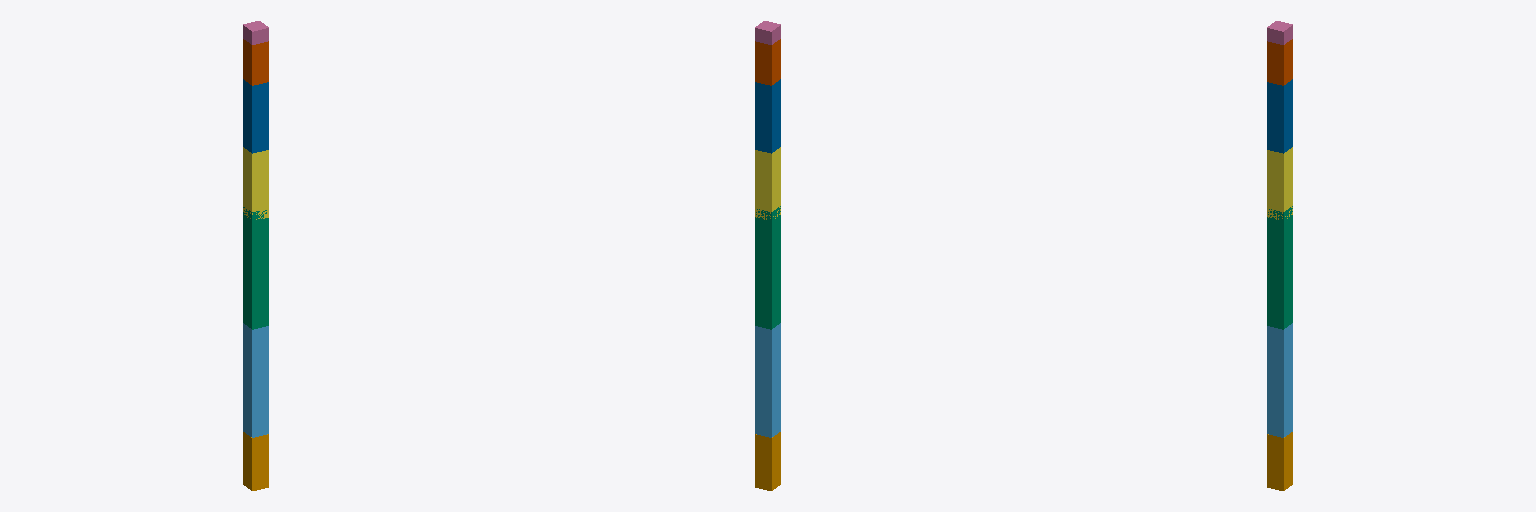
URDF robot description (6dof_arm):
<!-- =================================================================================== -->
<!-- |    @uthor Min Htet Han ( ROM Robotics )                                         | -->
<!-- |    ROS Simulation Online Course                                                 | -->
<!-- =================================================================================== -->


<robot name="6dof_arm">
	<link name="base_frame">
		<visual>
			<origin rpy="0 0 0" xyz="0 0 0"/>
			<geometry>
				<box size="0.05 0.05 0.15"/>
			</geometry>
		</visual>
	 <collision>
      <origin
        xyz="0 0 0"
        rpy="0 0 0" />
      <geometry>
				<box size="0.05 0.05 0.15"/>
	  </geometry>
     </collision>
 </link>

 <joint name="joint_one" type="revolute">
		<origin rpy="0 0 0" xyz="0 0 0.075"/>
		<parent link="base_frame"/>
		<child link="link_one"/>
		<axis xyz="0 0 1"/>
		<limit lower="-3.14" upper="3.14" effort="200" velocity="0.2"/>
	</joint>

 	<link name="link_one">
		<visual>
			<origin rpy="0 0 0" xyz="0 0 0.1525"/> <!--0.1524-->
			<geometry>
		
				<box size="0.05 0.05 0.3048"/>  <!-- 12 in for link one -->
			</geometry> <!-- 12 in for link one -->
		
		</visual>
	 <collision>
      <origin
        xyz="0 0 0.1524" rpy="0 0 0" />
     
		 <geometry>
				<box size="0.05 0.05 0.3048"/>  <!-- 12 in for link one -->
			</geometry>
	
     </collision>
 </link>

 <joint name="joint_two" type="revolute">
		<origin rpy="0 0 0" xyz="0 0 0.3048"/>
		<parent link="link_one"/>
		<child link="link_two"/>
		<axis xyz="0 1 0"/>
		<limit lower="-3.14" upper="3.14" effort="200" velocity="0.2"/>
	</joint>

<link name="link_two">
		<visual>
			<origin rpy="0 0 0" xyz="0 0 0.1651"/>
			<geometry>
				<box size="0.05 0.05 0.3302"/>  <!-- 12 in for link one -->
			</geometry>
		</visual>
	 <collision>
      <origin
        xyz="0 0 0.1651" rpy="0 0 0" />
      <geometry>
				<box size="0.05 0.05 0.3302"/>
	  </geometry>
     </collision>
 </link>

 <joint name="joint_three" type="revolute">
		<origin rpy="0 0 0" xyz="0 0 0.3048"/>
		<parent link="link_two"/>
		<child link="link_three"/>
		<axis xyz="0 1 0"/>
		<limit lower="-3.14" upper="3.14" effort="200" velocity="0.2"/>
	</joint>

<link name="link_three">
		<visual>
			<origin rpy="0 0 0" xyz="0 0 0.09525"/>
			<geometry>
				<box size="0.05 0.05 0.1905"/>  <!-- 12 in for link one -->
			</geometry>
		</visual>
	 <collision>
      <origin
        xyz="0 0 0.1905" rpy="0 0 0" />
      <geometry>
				<box size="0.05 0.05 0.1905"/>
	  </geometry>
     </collision>
 </link>

  <joint name="joint_three_two" type="revolute">
		<origin rpy="0 0 0" xyz="0 0 0.1905"/>
		<parent link="link_three"/>
		<child link="link_three_two"/>
		<axis xyz="0 0 1"/>
		<limit lower="-3.14" upper="3.14" effort="200" velocity="0.2"/>
	</joint>

 <link name="link_three_two">
		<visual>
			<origin rpy="0 0 0" xyz="0 0 0.09525"/>
			<geometry>
				<box size="0.05 0.05 0.1905"/>  <!-- 7.5 in for link one -->
			</geometry>
		</visual>
	 <collision>
      <origin
        xyz="0 0 0.09525" rpy="0 0 0" />
      <geometry>
				<box size="0.05 0.05 0.1905"/>
	  </geometry>
     </collision>
 </link>

   <joint name="joint_four" type="revolute">
		<origin rpy="0 0 0" xyz="0 0 0.1905"/>
		<parent link="link_three_two"/>
		<child link="link_four"/>
		<axis xyz="0 1 0"/>
		<limit lower="-3.14" upper="3.14" effort="200" velocity="0.2"/>
	</joint>

 <link name="link_four">
		<visual>
			<origin rpy="0 0 0" xyz="0 0 0.05715"/>
			<geometry>
				<box size="0.05 0.05 0.1143"/>  <!-- 7.5 in for link one -->
			</geometry>
		</visual>
	 <collision>
      <origin
        xyz="0 0 0.05715" rpy="0 0 0" />
      <geometry>
				<box size="0.05 0.05 0.1143"/>
	  </geometry>
     </collision>
 </link>

   <joint name="joint_five" type="revolute">
		<origin rpy="0 0 0" xyz="0 0 0.1143"/>
		<parent link="link_four"/>
		<child link="link_five"/>
		<axis xyz="0 0 1"/>
		<limit lower="-3.14" upper="3.14" effort="200" velocity="0.2"/>
	</joint>

 <link name="link_five">
		<visual>
			<origin rpy="0 0 0" xyz="0 0 0.01905"/>
			<geometry>
				<box size="0.05 0.05 0.0381"/>  <!-- 7.5 in for link one -->
			</geometry>
		</visual>
	 <collision>
      <origin
        xyz="0 0 0.05715" rpy="0 0 0" />
      <geometry>
				<box size="0.05 0.05 0.0381"/>
	  </geometry>
     </collision>
 </link>


 
     
</robot>

--- Render facts (derived) ---
The picture shows the robot from 3 angles, left to right: view 1: azimuth 30°, elevation 25°; view 2: azimuth 150°, elevation 25°; view 3: azimuth 330°, elevation 25°; orthographic projection.
Model 6dof_arm with 7 links and 6 joints (6 revolute), rooted at base_frame, posed all joints at 0.
Visible links, largest first — view 1: link_two, link_one, link_three_two, link_three, base_frame, link_four; view 2: link_two, link_one, link_three_two, link_three, base_frame, link_four; view 3: link_two, link_one, link_three_two, link_three, base_frame, link_four.
Boxes of the visible links, x1=… form: link_two: x1=243, y1=207, x2=268, y2=329; link_one: x1=243, y1=323, x2=268, y2=437; link_three_two: x1=243, y1=79, x2=268, y2=153; link_three: x1=243, y1=147, x2=268, y2=219; base_frame: x1=243, y1=432, x2=268, y2=490; link_four: x1=243, y1=39, x2=268, y2=85; link_two: x1=755, y1=206, x2=780, y2=329; link_one: x1=755, y1=323, x2=780, y2=437; link_three_two: x1=755, y1=79, x2=780, y2=153; link_three: x1=755, y1=147, x2=780, y2=219; base_frame: x1=755, y1=432, x2=780, y2=490; link_four: x1=755, y1=39, x2=780, y2=85; link_two: x1=1267, y1=206, x2=1292, y2=329; link_one: x1=1267, y1=323, x2=1292, y2=437; link_three_two: x1=1267, y1=79, x2=1292, y2=153; link_three: x1=1267, y1=147, x2=1292, y2=219; base_frame: x1=1267, y1=432, x2=1292, y2=490; link_four: x1=1267, y1=39, x2=1292, y2=85.
Size in the robot's own frame: 0.05 by 0.05 by 1.29 metres.
Geometry: primitives only (box / cylinder / sphere), no mesh files.
